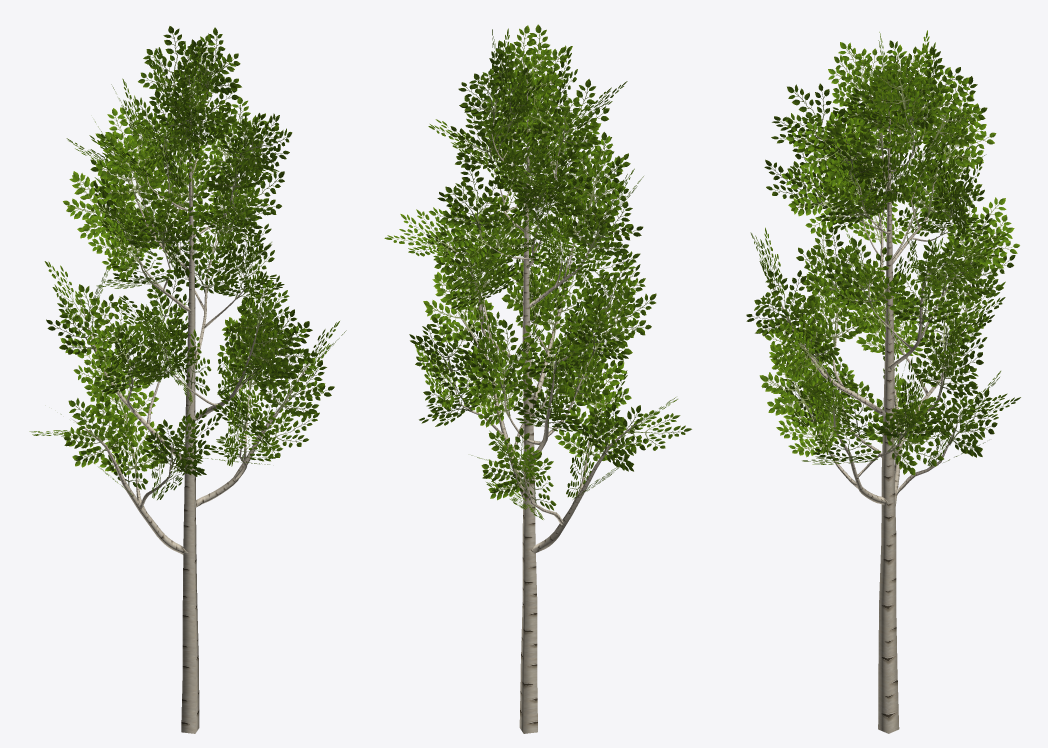
The model's file is Birch 02.fbx.
3 views of the same model, side by side, from view 1: azimuth 30°, elevation 25°; view 2: azimuth 150°, elevation 25°; view 3: azimuth 270°, elevation 25° (orthographic).
Parts seen in each view (by area): view 1: Birch_02; view 2: Birch_02; view 3: Birch_02.
Boxes of the visible parts, x1,y1,x2,y2 form: Birch_02: (29, 26, 346, 733); Birch_02: (384, 24, 691, 733); Birch_02: (746, 30, 1020, 733).
Bounding box in the file's own units: 499 × 1107 × 425.
